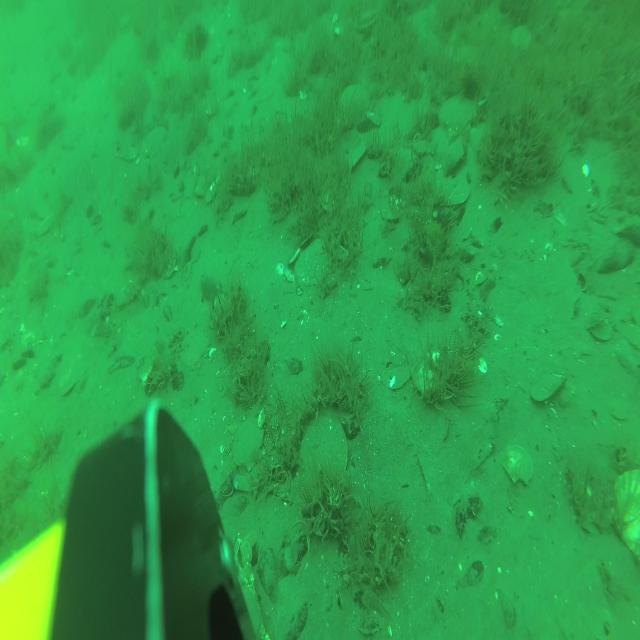scallop: (298, 414, 351, 494), (609, 458, 640, 567), (229, 414, 268, 474), (437, 91, 479, 142), (294, 236, 330, 288), (501, 440, 535, 486), (338, 80, 371, 122), (140, 122, 166, 164), (508, 20, 534, 54), (354, 5, 382, 33)
